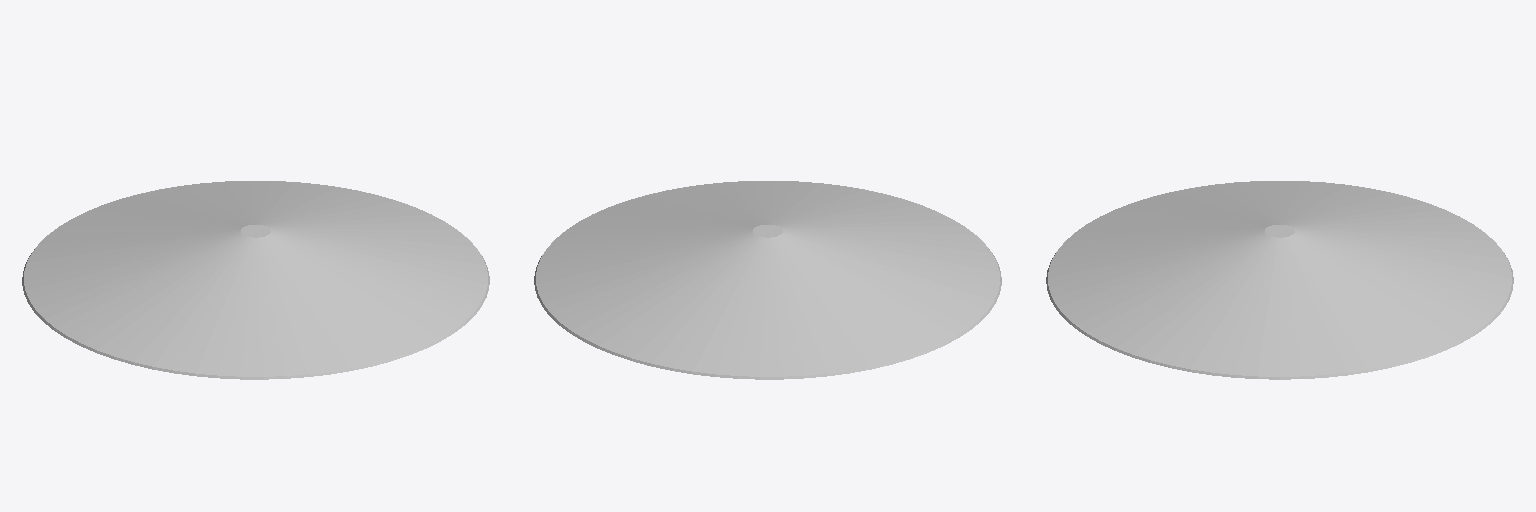
The model's file is drumsetV4_Hi-Hat_Keyframe.obj.
3 views of the same model, side by side, from view 1: azimuth 30°, elevation 25°; view 2: azimuth 150°, elevation 25°; view 3: azimuth 270°, elevation 25° (orthographic).
Parts seen in each view (by area): view 1: drumsetV4_Hi-Hat_Cylinder.022; view 2: drumsetV4_Hi-Hat_Cylinder.022; view 3: drumsetV4_Hi-Hat_Cylinder.022.
Boxes of the visible parts, <box> form: drumsetV4_Hi-Hat_Cylinder.022: <box>22,181,489,379</box>; drumsetV4_Hi-Hat_Cylinder.022: <box>534,181,1001,379</box>; drumsetV4_Hi-Hat_Cylinder.022: <box>1046,181,1513,379</box>.
Bounding box in the file's own units: 0.8717 × 0.1022 × 0.8717.